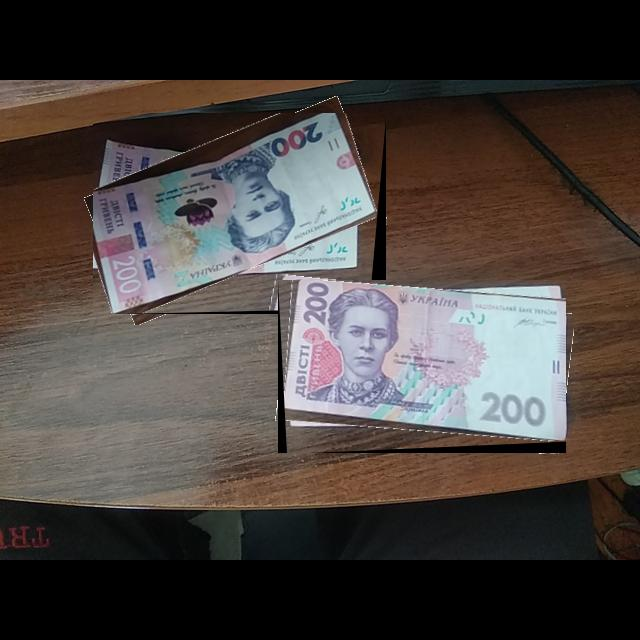200uah: (93, 113, 380, 315), (283, 280, 567, 445)
